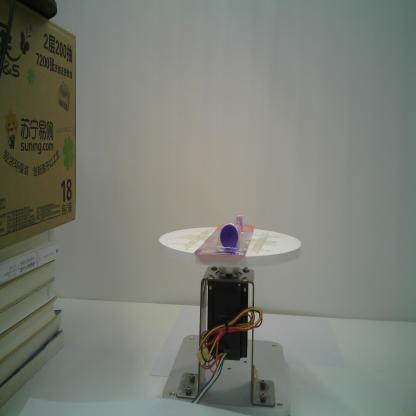Personal Hygiene: (192, 214, 255, 258)
